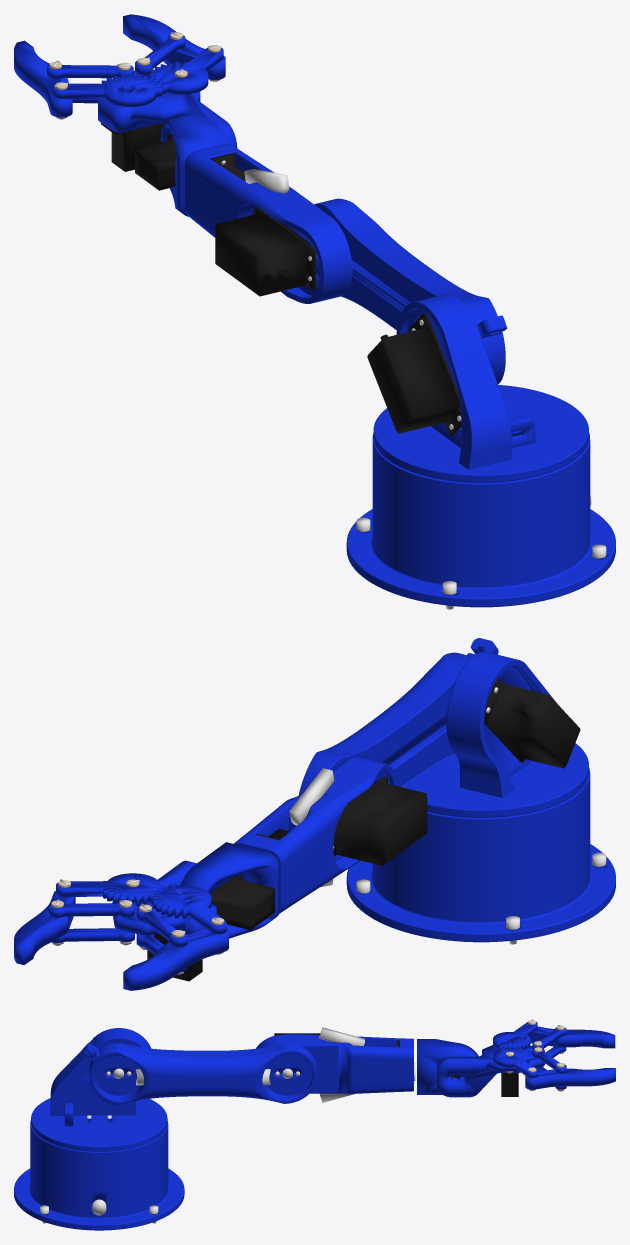
File: modelo.gltf
3 renders of one model, top to bottom at view 1: azimuth 30°, elevation 25°; view 2: azimuth 150°, elevation 25°; view 3: azimuth 270°, elevation 25°, orthographic. The views are drawn at different scales.
Visible parts, largest first — view 1: Base, Waist, Arm 02 v3, Arm 01, Servo1, Servo1.001, Gripper base, Arm 03, Gear2, Gripper 1.001, Gripper 1, Gear1 (+3 smaller); view 2: Base, Waist, Arm 01, Arm 02 v3, Servo1.001, Servo1, Arm 03, Gripper 1, Arm 02 v3.001, Gear1, Gear2, Gripper 1.001 (+6 smaller); view 3: Base, Arm 01, Waist, Arm 02 v3, Gripper base, Arm 03, Gripper 1.001, Gripper 1, Gear1, Gear2, bool9, Arm 02 v3.003 (+1 smaller).
Part boxes in pixels (x1,y1,x2,y2): Base: [346, 432, 615, 607]; Waist: [373, 294, 588, 482]; Arm 02 v3: [184, 144, 352, 303]; Arm 01: [314, 198, 507, 384]; Servo1: [367, 313, 461, 435]; Servo1.001: [215, 207, 315, 296]; Gripper base: [98, 70, 237, 147]; Arm 03: [160, 113, 234, 216]; Gear2: [52, 74, 162, 107]; Gripper 1.001: [123, 14, 225, 79]; Gripper 1: [14, 40, 72, 117]; Gear1: [149, 47, 223, 94]; Base: [346, 767, 615, 942]; Waist: [400, 651, 588, 817]; Arm 01: [298, 638, 498, 795]; Arm 02 v3: [234, 756, 397, 913]; Servo1.001: [333, 776, 427, 865]; Servo1: [484, 678, 580, 768]; Arm 03: [180, 842, 279, 938]; Gripper 1: [123, 928, 228, 990]; Arm 02 v3.001: [210, 874, 274, 930]; Gear1: [56, 873, 165, 906]; Gear2: [152, 885, 226, 934]; Gripper 1.001: [14, 891, 75, 964]; Base: [14, 1120, 184, 1230]; Arm 01: [82, 1042, 317, 1104]; Waist: [31, 1028, 167, 1151]; Arm 02 v3: [256, 1034, 413, 1094]; Gripper base: [437, 1045, 544, 1097]; Arm 03: [417, 1039, 478, 1094]; Gripper 1.001: [525, 1068, 615, 1089]; Gripper 1: [528, 1026, 615, 1048]; Gear1: [493, 1046, 537, 1078]; Gear2: [493, 1021, 537, 1049]; bool9: [319, 1027, 364, 1045]; Arm 02 v3.003: [501, 1073, 518, 1096].
Size of the model in its own units: 6.39 by 6.76 by 22.54.
